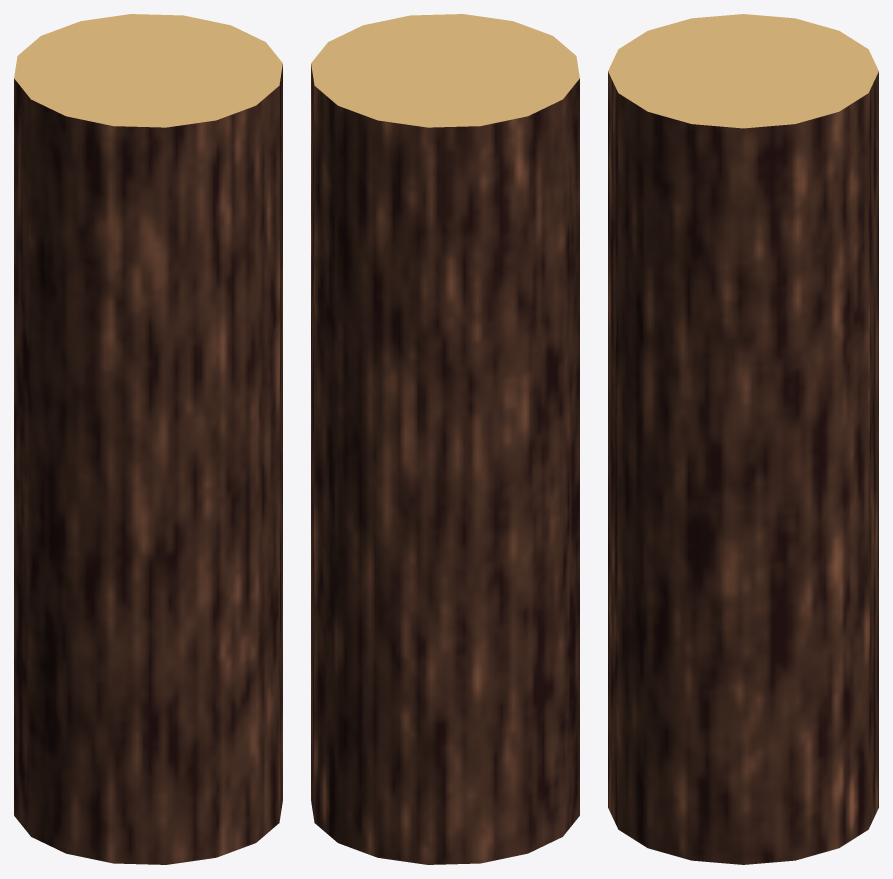
The model's file is бревно15.fbx.
The picture shows the model from 3 angles, left to right: view 1: azimuth 30°, elevation 25°; view 2: azimuth 150°, elevation 25°; view 3: azimuth 270°, elevation 25°; orthographic projection.
Visible parts, largest first — view 1: Цилиндр_лоу; view 2: Цилиндр_лоу; view 3: Цилиндр_лоу.
Boxes of the visible parts, x1=… form: Цилиндр_лоу: x1=14, y1=14, x2=282, y2=864; Цилиндр_лоу: x1=311, y1=14, x2=579, y2=864; Цилиндр_лоу: x1=608, y1=14, x2=878, y2=864.
Size of the model in its own units: 200 by 600 by 200.
